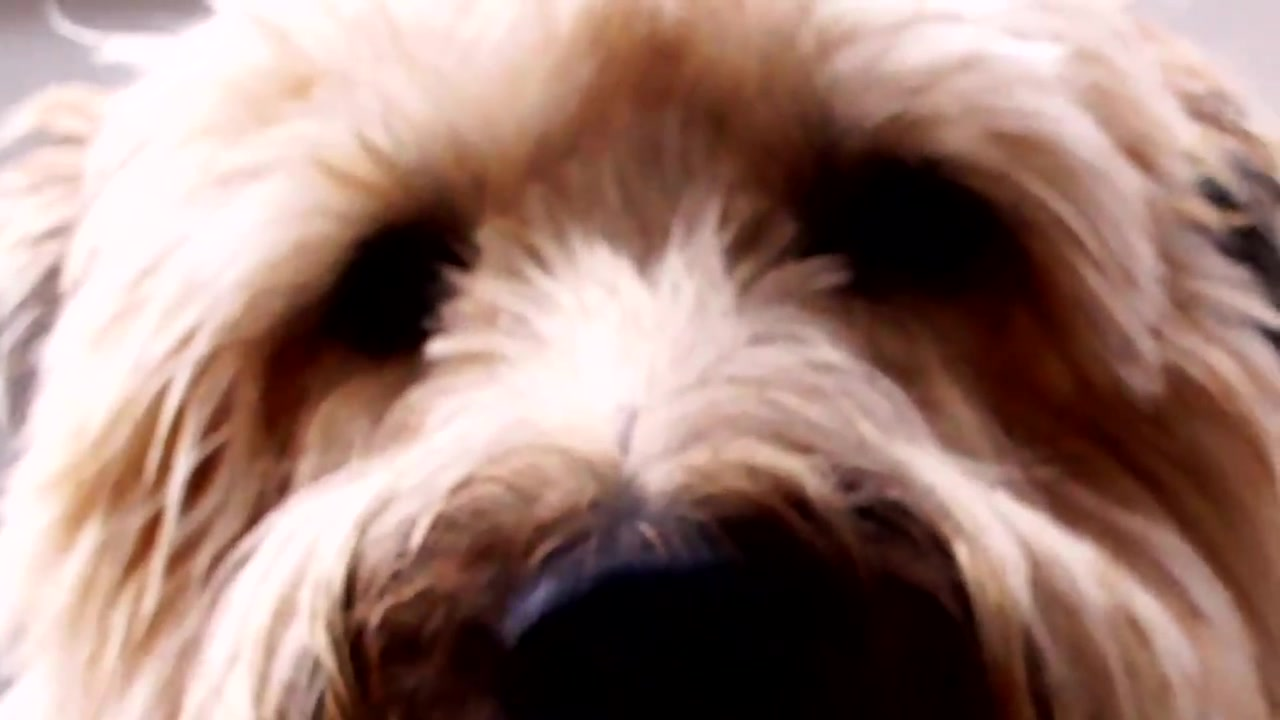dog: (1, 1, 1280, 719)
